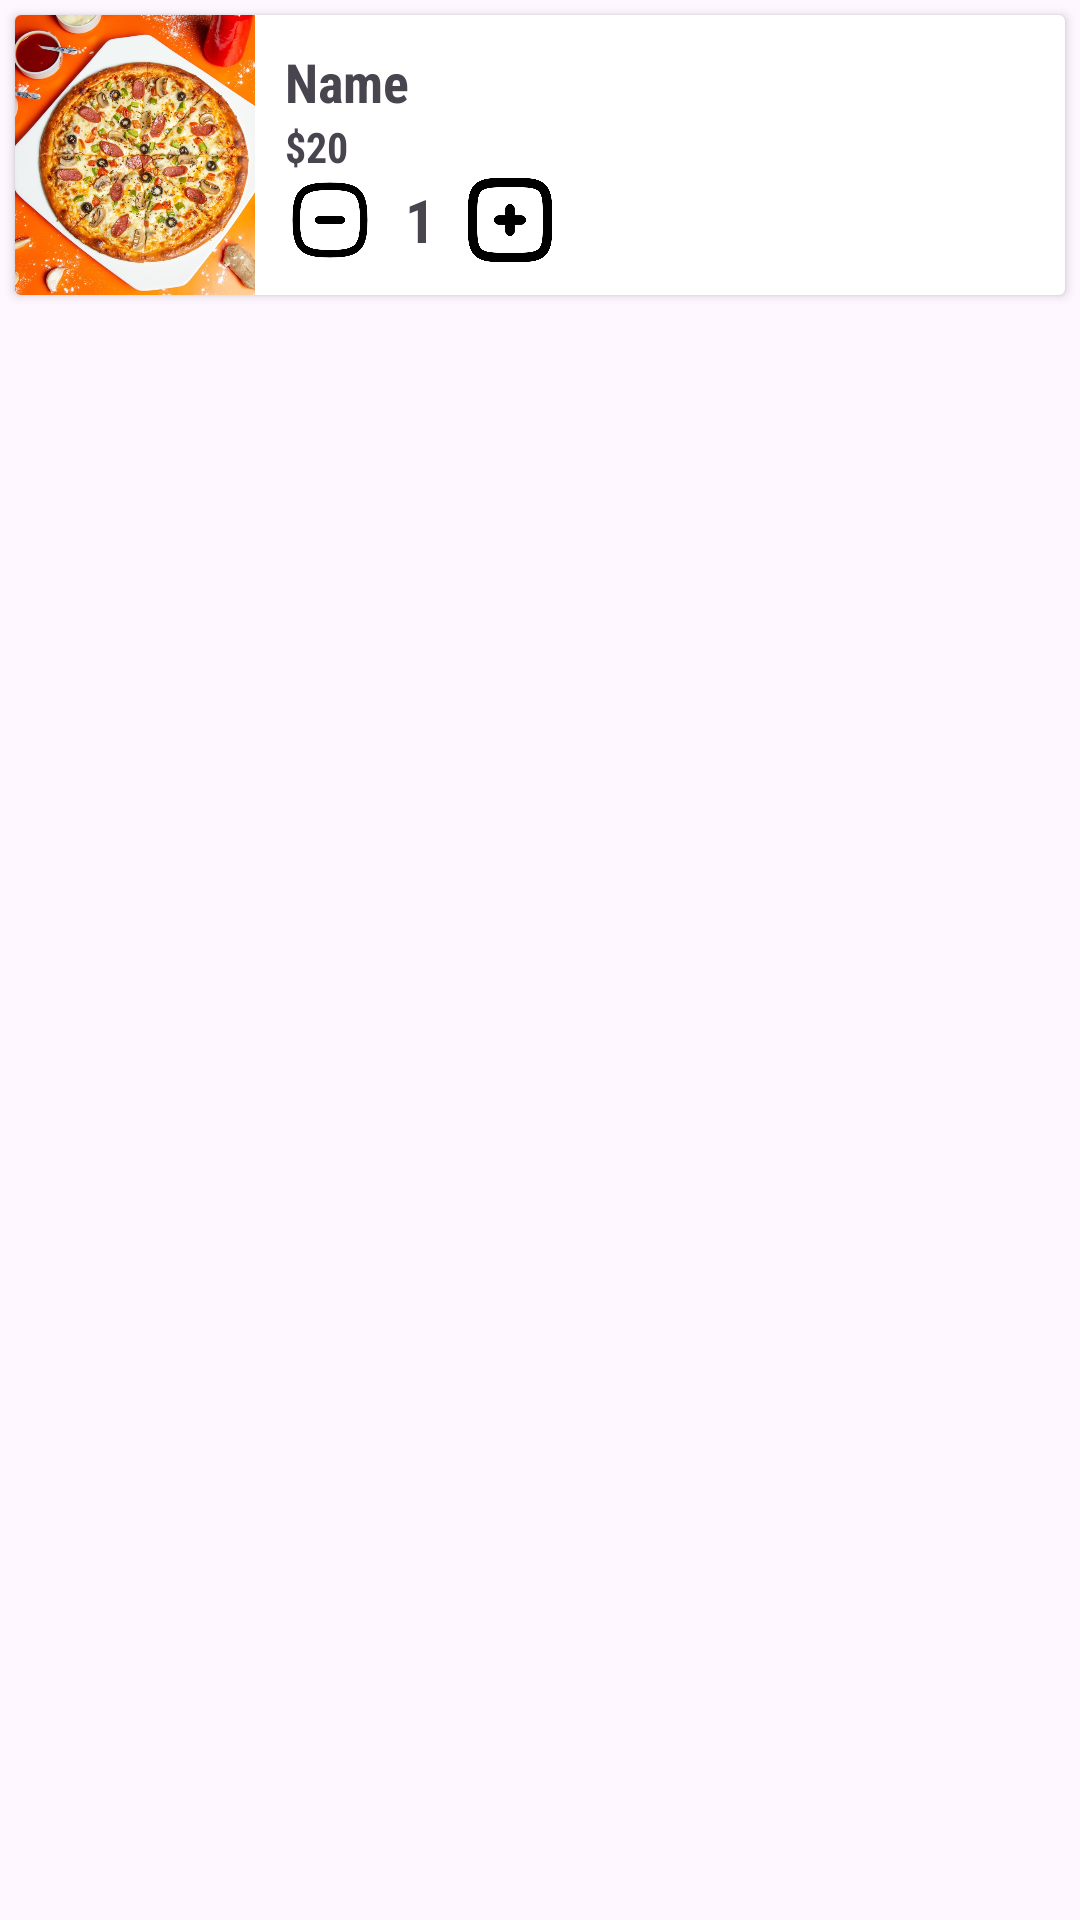

Icon bounding boxes for this 1080w x 1920h phone screenshot, format {"x1": x1, "y1": y1, "x2": x2, "y2": y2}:
add: {"x1": 468, "y1": 178, "x2": 552, "y2": 262}
minus: {"x1": 292, "y1": 182, "x2": 368, "y2": 258}
Product Demo Image: {"x1": 15, "y1": 15, "x2": 255, "y2": 295}
